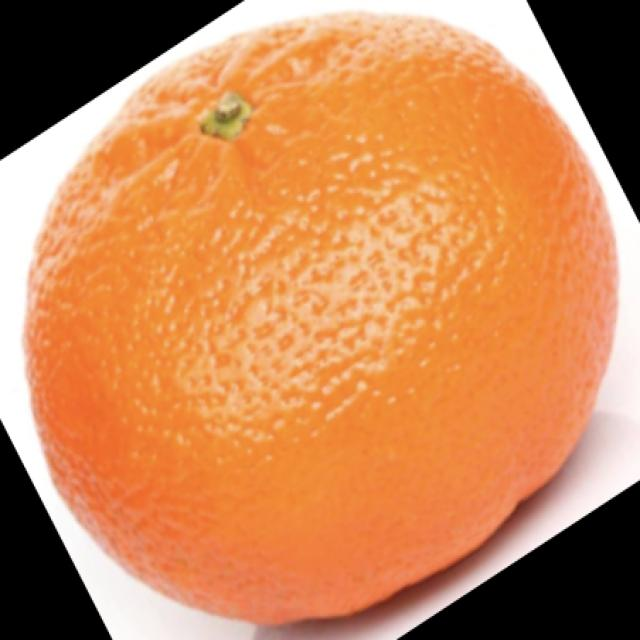matang: (30, 16, 620, 622)
